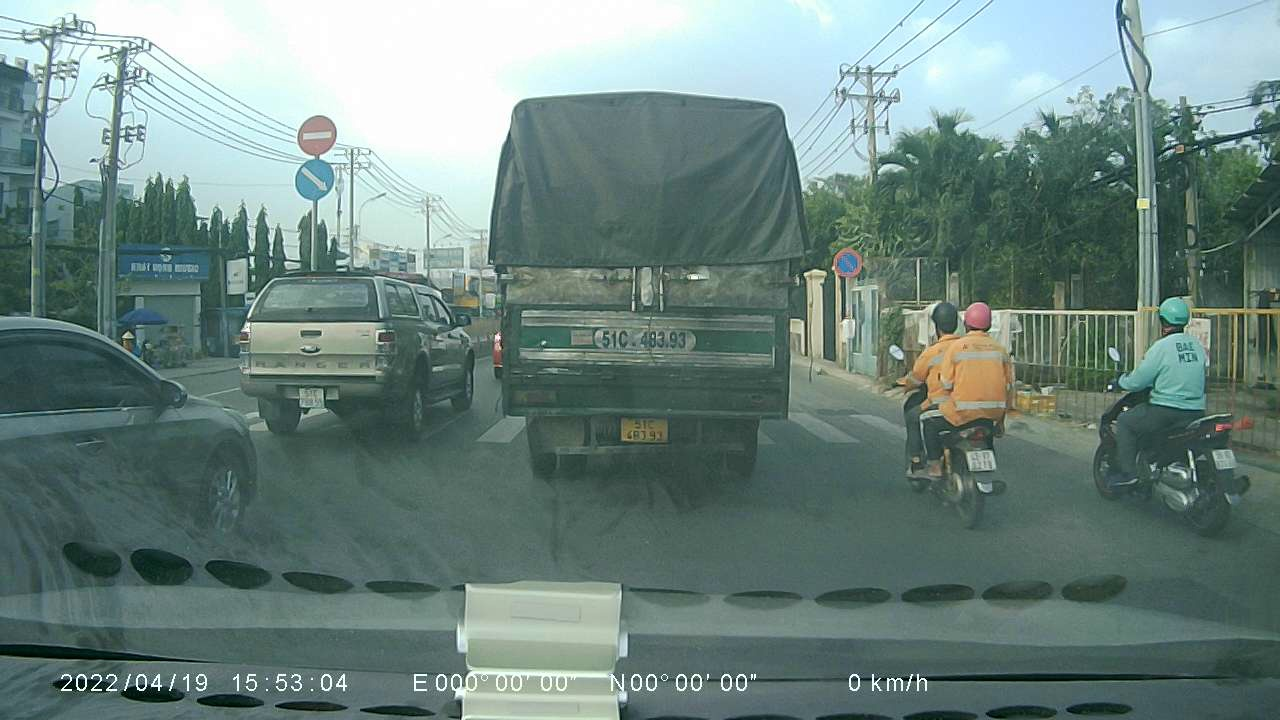Cam di nguoc chieu: (297, 113, 336, 154)
Cam do xe: (831, 245, 862, 276)
Huong di phai re phai: (291, 158, 334, 199)
